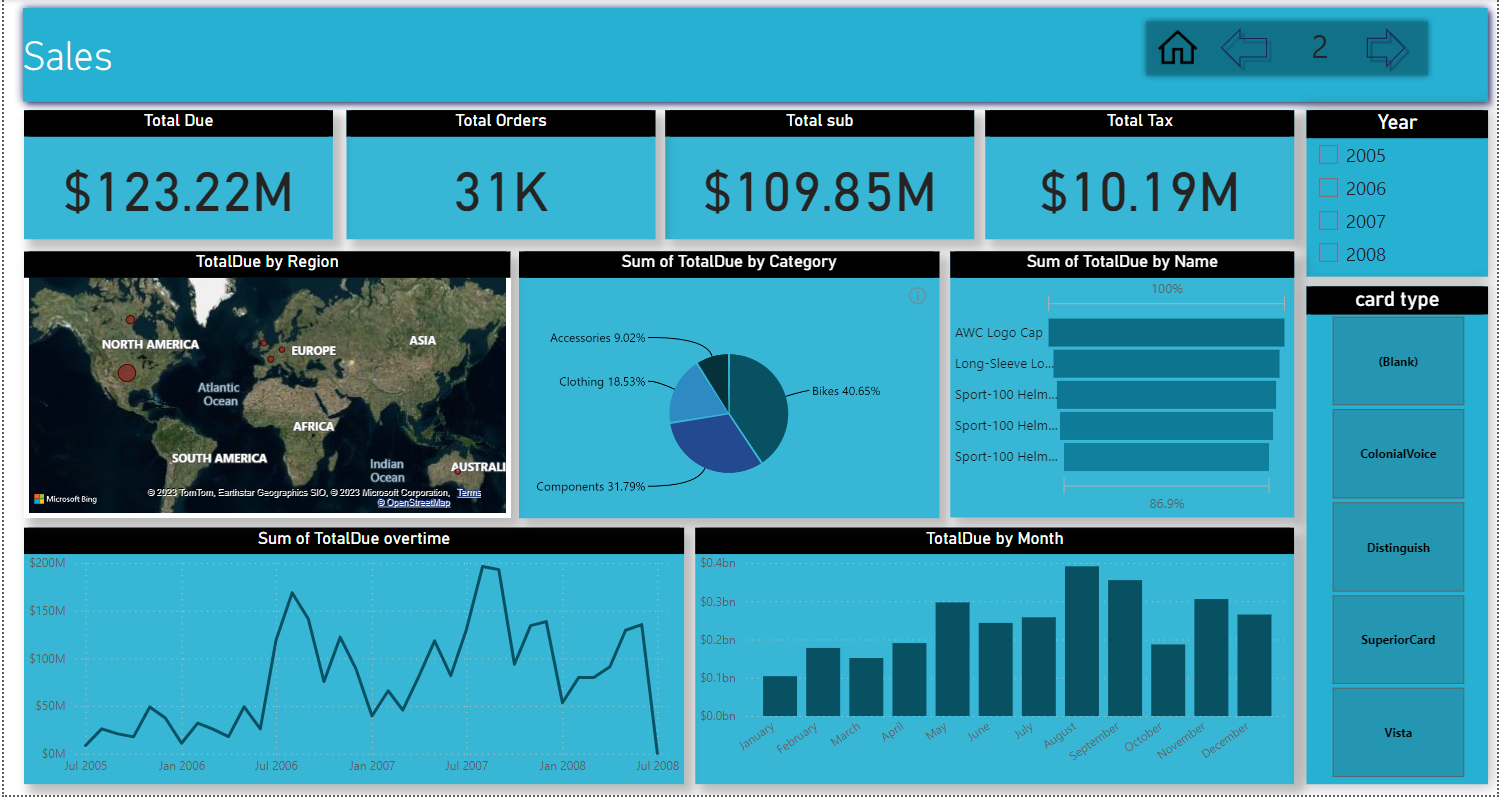

The page's visual inventory and layout, read from the dashboard file:
{"tool":"powerbi","page":{"name":"Salse","canvas":[1500,800],"ordinal":2},"visuals":[{"type":"shape","box":[10.3,0,1489.7,111.7],"z":0},{"type":"shape","box":[1141.1,16.3,295.5,66.7],"z":1000},{"type":"image","box":[1141.1,23.1,74.9,53.1],"z":2000},{"type":"textbox","box":[1308.6,20.4,36.8,59.9],"z":3000},{"type":"shape","box":[1363,23.1,51.7,53.1],"z":4000},{"type":"shape","box":[1216,23.1,59.9,53.1],"z":5000},{"type":"card","title":"Total sub","fields":{"Values":["Measure.Total subtotal"]},"box":[664.5,111.7,310.5,129.4],"z":6000},{"type":"card","title":"Total Orders","fields":{"Values":["Measure.Total Orders"]},"box":[344.5,111.7,310.5,129.4],"z":7000},{"type":"card","title":"Total Due","fields":{"Values":["Measure.Total Due"]},"box":[20.4,111.7,310.5,129.4],"z":8000},{"type":"card","title":"Total Tax","fields":{"Values":["Measure.Total tax"]},"box":[985.8,111.7,310.5,129.4],"z":9000},{"type":"slicer","title":"Year","fields":{"Values":["Dimdate.Date.Variation.Date Hierarchy.Year"]},"box":[1308.6,111.7,182.5,167.5],"z":10000},{"type":"lineChart","title":"Sum of TotalDue overtime","fields":{"Y":["Sum(Fact Sales.TotalDue)"],"Category":["Dimdate.Date.Variation.Date Hierarchy.Year","Dimdate.Date.Variation.Date Hierarchy.Quarter","Dimdate.Date.Variation.Date Hierarchy.Month"]},"box":[20.4,531,663.1,257.4],"z":11000},{"type":"clusteredColumnChart","title":"TotalDue by Month","fields":{"Y":["Sum(Fact Sales.TotalDue)"],"Category":["Dimdate.Date.Variation.Date Hierarchy.Month"]},"box":[694.4,531,601.9,257.4],"z":12000},{"type":"map","title":"TotalDue by Region","fields":{"Category":["DIM Territory.CountryRegionCode"],"Size":["Sum(Fact Sales.TotalDue)"]},"box":[20.4,253.3,488.8,268.2],"z":13000},{"type":"ZoomChartsDrillDownPieProC062D62DA5CE45ECB95B7B1D0E5DA558","fields":{"Category":["Dim Product.Category"],"Values":["Sum(Fact Sales.TotalDue)"]},"box":[517.4,253.3,422.1,268.2],"z":14000},{"type":"funnel","fields":{"Category":["Dim Product.Product.Name"],"Y":["Sum(Fact Sales.TotalDue)"]},"box":[950.4,253.3,345.9,266.9],"z":15000},{"type":"slicer","title":"card type","fields":{"Values":["DIM CreditCard.CardType"]},"box":[1308.6,288.7,182.5,499.7],"z":16000}]}

Visuals, with their boxes in screenshot pixels (x1, y1, x2, y2), scaled from the page's 1500x800 canvas onto the 1499x798 screenshot:
shape: [10,0,1498,111]
shape: [1140,16,1436,83]
image: [1140,23,1215,76]
textbox: [1308,20,1345,80]
shape: [1362,23,1414,76]
shape: [1215,23,1275,76]
"Total sub" card: [664,111,974,240]
"Total Orders" card: [344,111,655,240]
"Total Due" card: [20,111,331,240]
"Total Tax" card: [985,111,1295,240]
"Year" slicer: [1308,111,1490,279]
"Sum of TotalDue overtime" lineChart: [20,530,683,786]
"TotalDue by Month" clusteredColumnChart: [694,530,1295,786]
"TotalDue by Region" map: [20,253,509,520]
ZoomChartsDrillDownPieProC062D62DA5CE45ECB95B7B1D0E5DA558 - Dim Product.Category x Sum(Fact Sales.TotalDue): [517,253,939,520]
funnel - Dim Product.Product.Name x Sum(Fact Sales.TotalDue): [950,253,1295,519]
"card type" slicer: [1308,288,1490,786]
